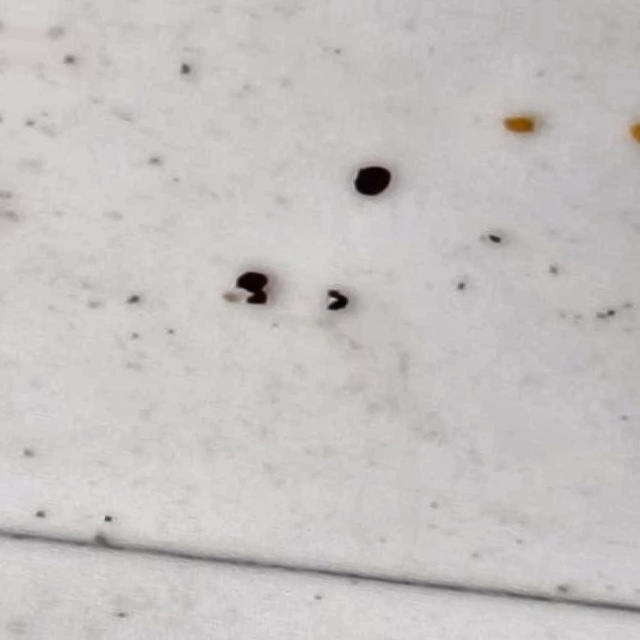varroa: (349, 161, 395, 202)
